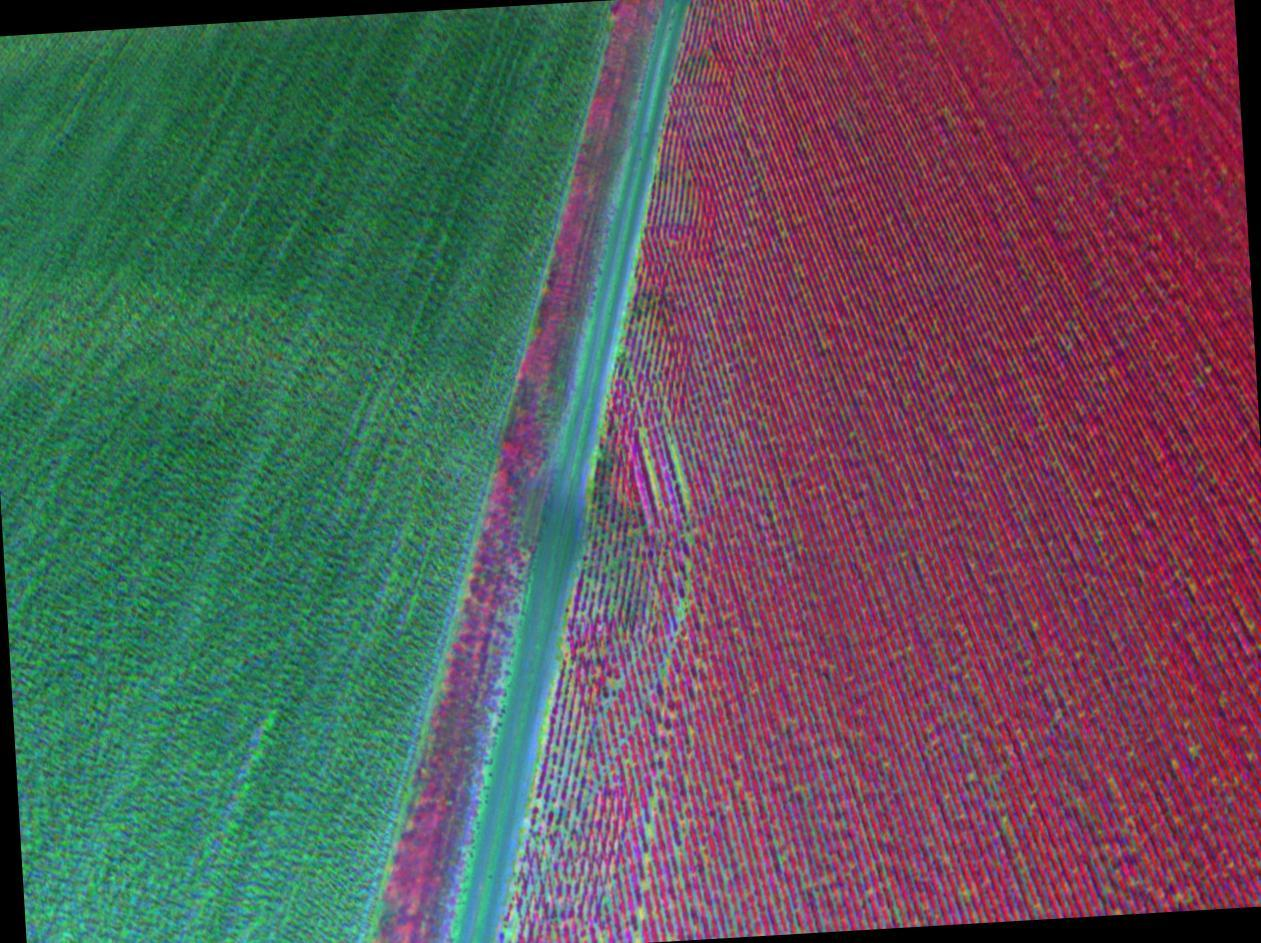dc: (687, 562, 692, 567), (615, 681, 620, 686), (636, 912, 641, 917), (670, 446, 674, 451), (679, 474, 683, 479), (649, 801, 654, 805), (1001, 821, 1005, 826), (648, 829, 652, 834), (782, 231, 786, 235), (665, 670, 668, 675), (1032, 624, 1035, 628), (1171, 763, 1174, 767), (967, 776, 970, 779)
